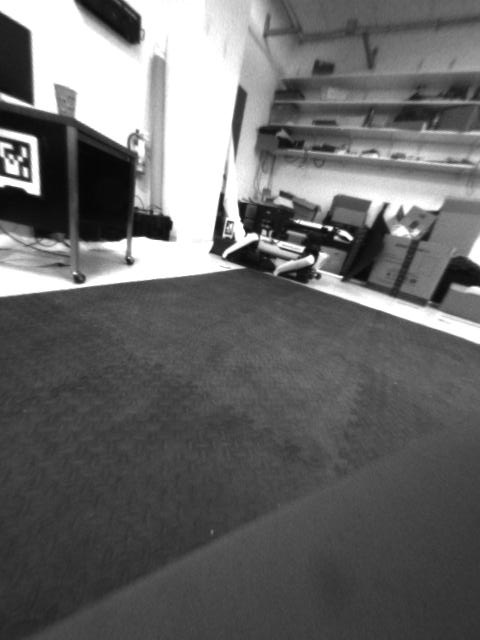coffee_cup: (54, 83, 78, 119)
